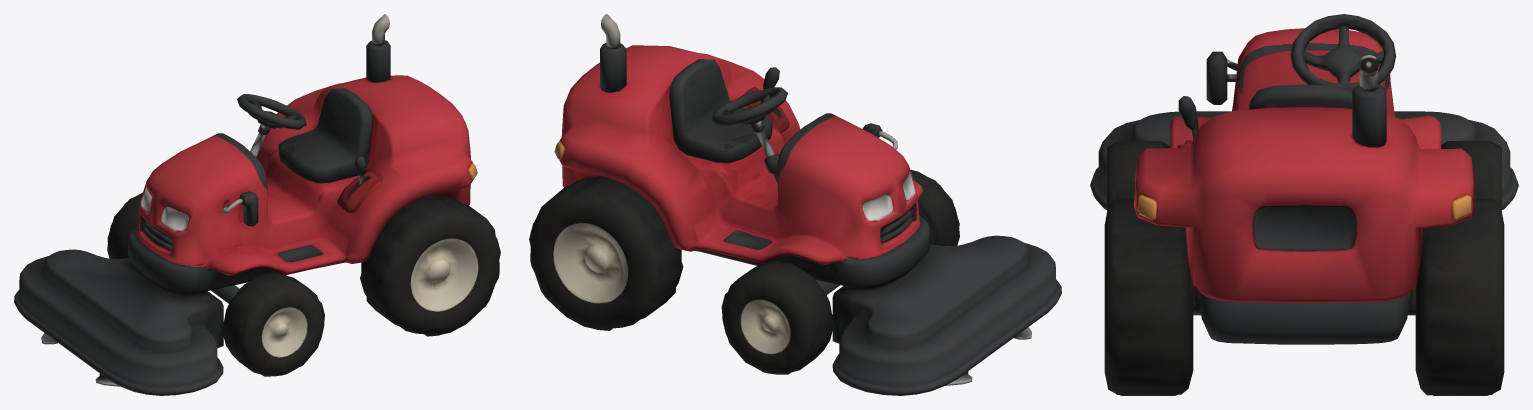
File: lawn-mower-C09anPBC.glb
The picture shows the model from 3 angles, left to right: view 1: azimuth 30°, elevation 25°; view 2: azimuth 150°, elevation 25°; view 3: azimuth 270°, elevation 25°; orthographic projection. The views are drawn at different scales.
Visible parts, largest first — view 1: Cherry Red Mower Cruiser; view 2: Cherry Red Mower Cruiser; view 3: Cherry Red Mower Cruiser.
Boxes of the visible parts, bbox=[...] form: Cherry Red Mower Cruiser: bbox=[14, 14, 500, 395]; Cherry Red Mower Cruiser: bbox=[529, 14, 1061, 395]; Cherry Red Mower Cruiser: bbox=[1090, 14, 1518, 395].
Size of the model in its own units: 0.998 by 0.6308 by 0.6894.
1 material, 1 textured.
